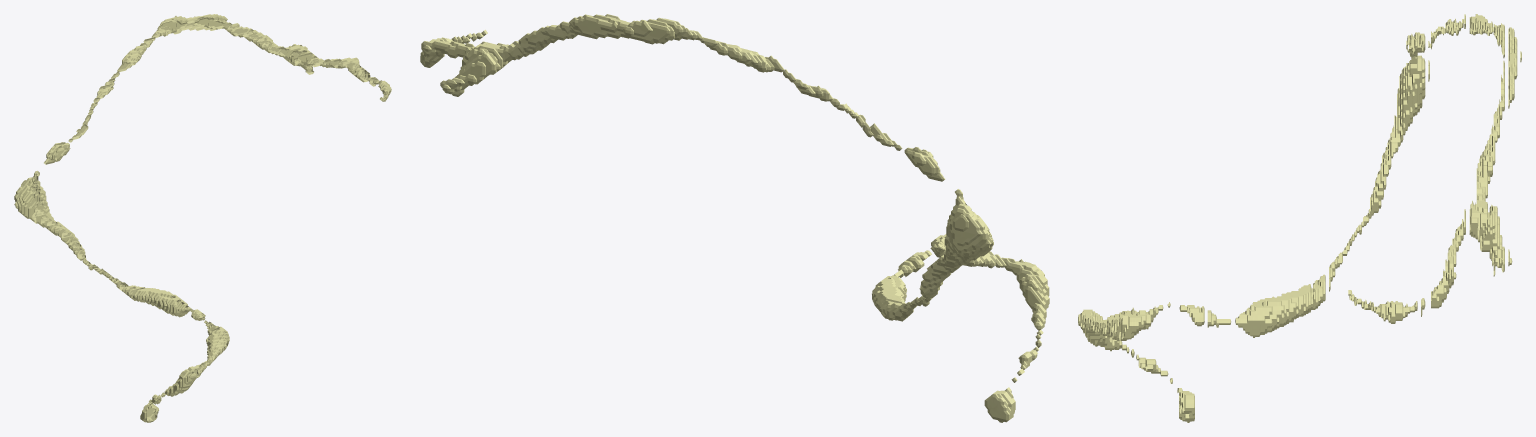
The model's file is SVV_SAAVR.gltf.
3 views of the same model, side by side, from view 1: azimuth 30°, elevation 25°; view 2: azimuth 150°, elevation 25°; view 3: azimuth 270°, elevation 25° (orthographic). The views are drawn at different scales.
Parts seen in each view (by area): view 1: SAAVR; view 2: SAAVR; view 3: SAAVR.
Boxes of the visible parts, <box> form: SAAVR: <box>14,14,391,422</box>; SAAVR: <box>420,14,1049,422</box>; SAAVR: <box>1078,14,1521,422</box>.
Size of the model in its own units: 109113 by 85020 by 70414.
